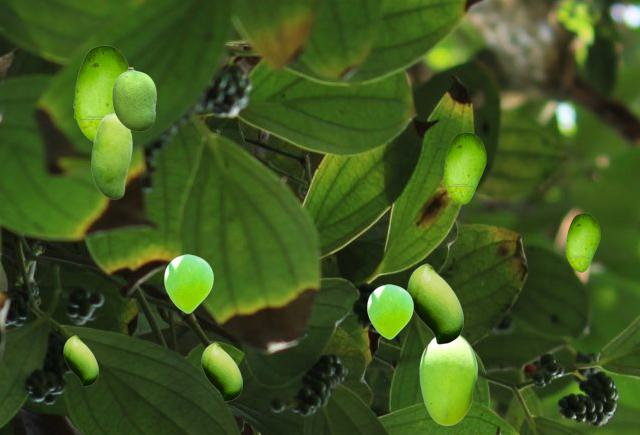green_mango: (73, 45, 129, 142), (419, 335, 476, 424), (407, 263, 462, 343), (91, 113, 131, 198), (443, 132, 485, 203), (164, 254, 212, 312), (112, 67, 155, 130), (367, 284, 412, 338), (201, 342, 241, 400), (565, 213, 599, 271), (63, 335, 97, 385)
